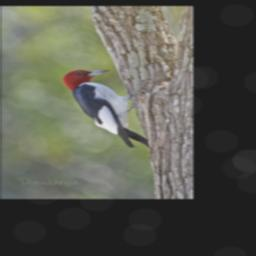Woodpecker: (59, 66, 155, 150)
